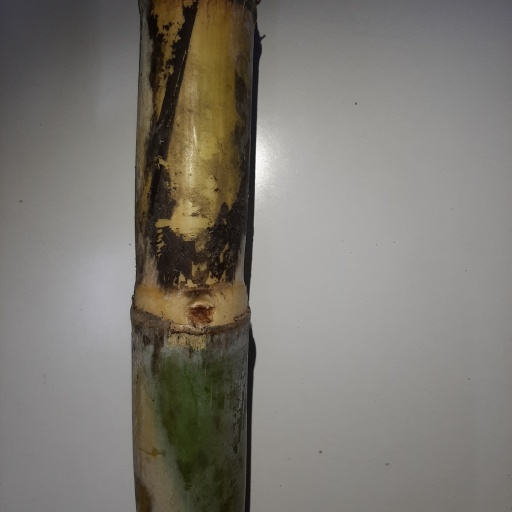Damage_Bud: (185, 300, 214, 327)
